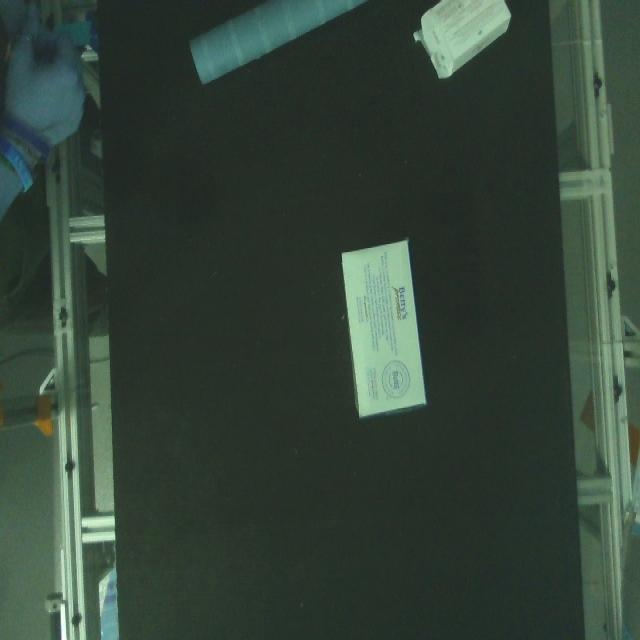non-paper: (333, 216, 433, 444)
paper: (166, 0, 373, 104), (399, 0, 519, 103)
